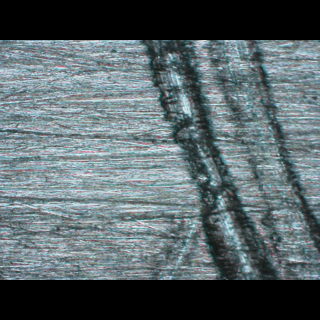d: (140, 40, 319, 276)
